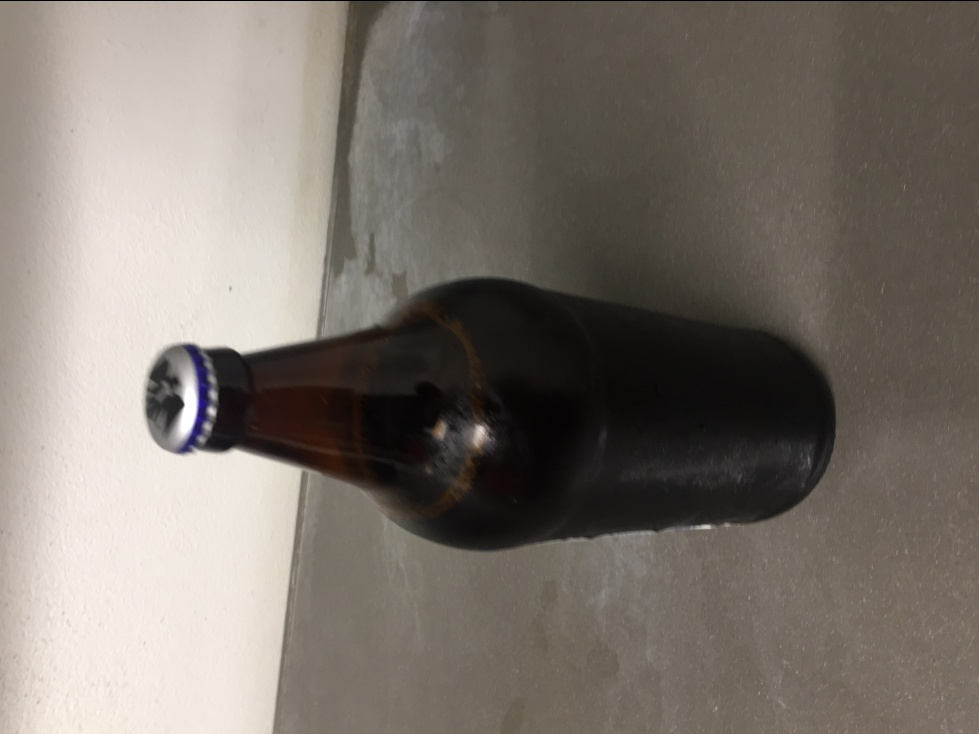tecateC: (137, 276, 839, 547)
